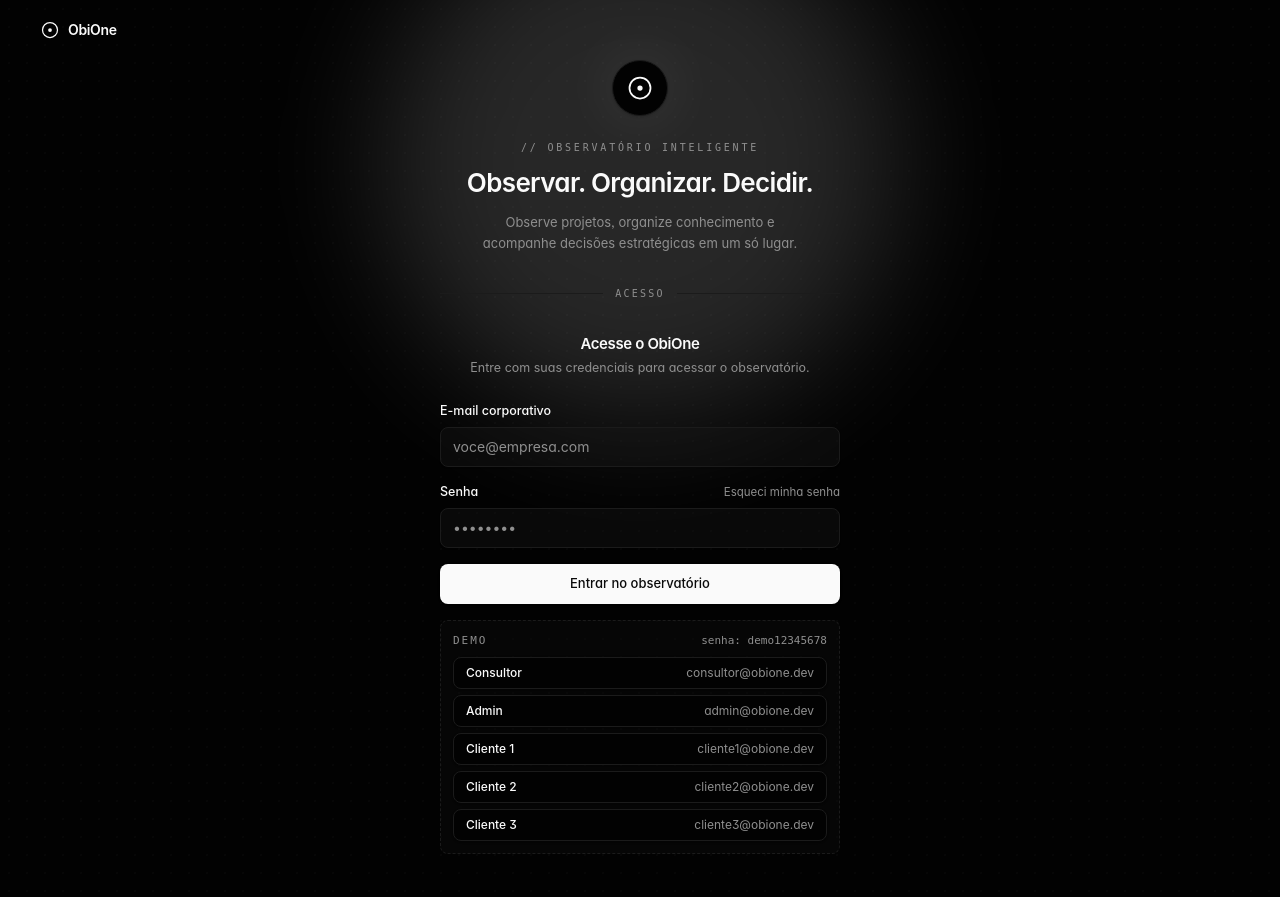
Test: LoginPage › shows an error message when the backend rejects credentials
Step 1. Type "c@x.com" into the field labelled "E-mail corporativo" → [640, 447], box [440,427,840,467]
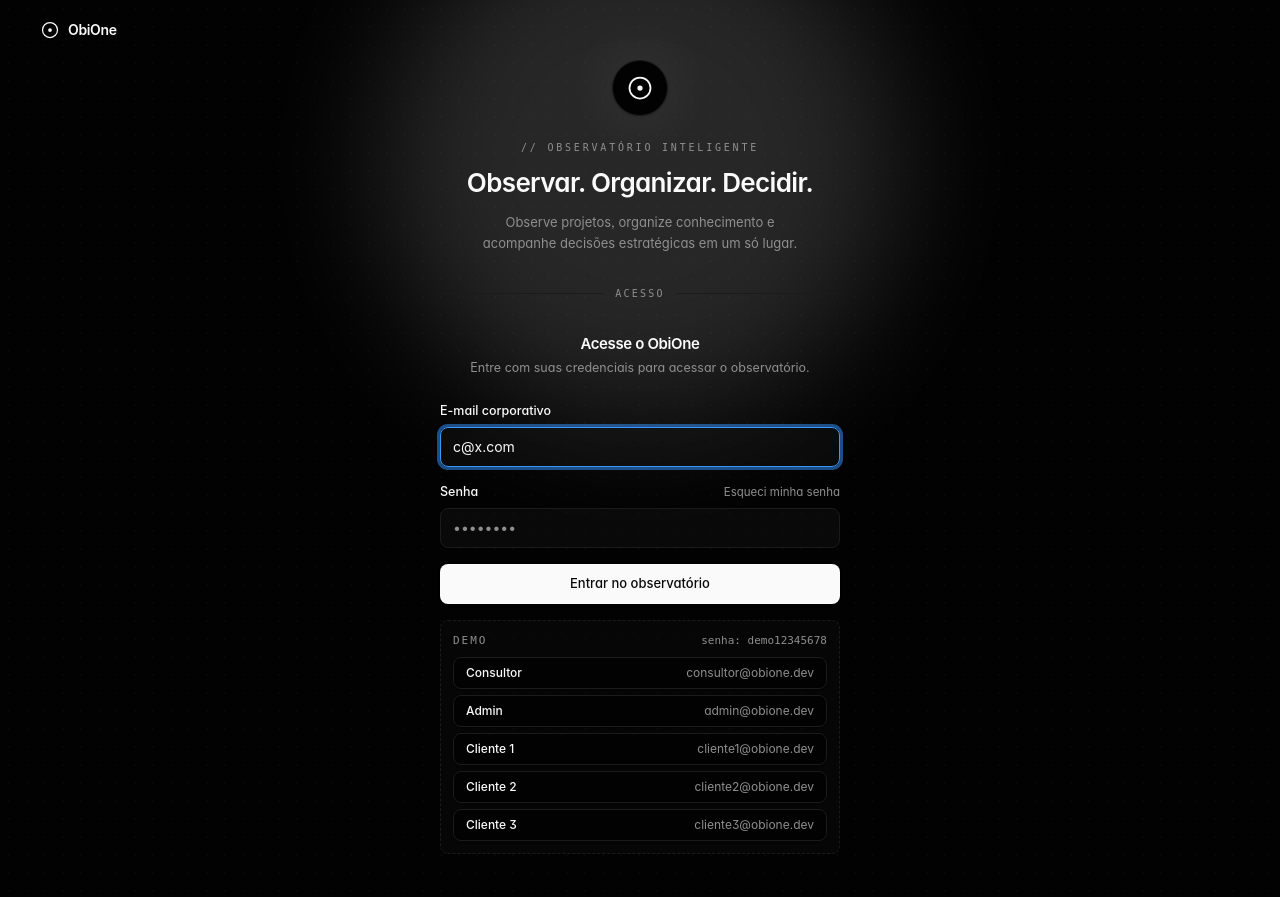
Step 2. Type "pwd12345678" into the password field labelled "Senha" → [640, 528], box [440,508,840,548]
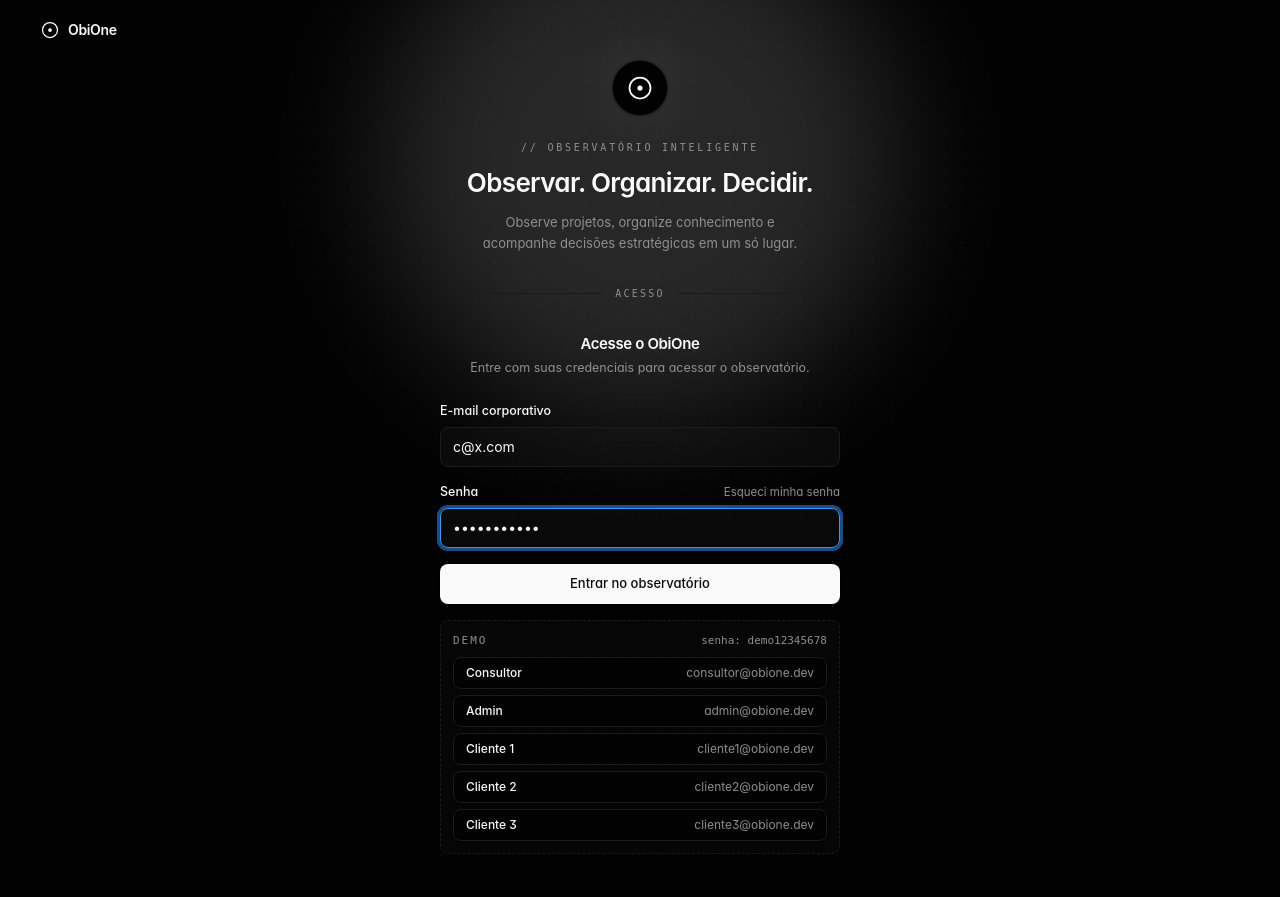
Step 3. Click the button "Entrar no observatório" → [640, 584], box [440,564,840,604]
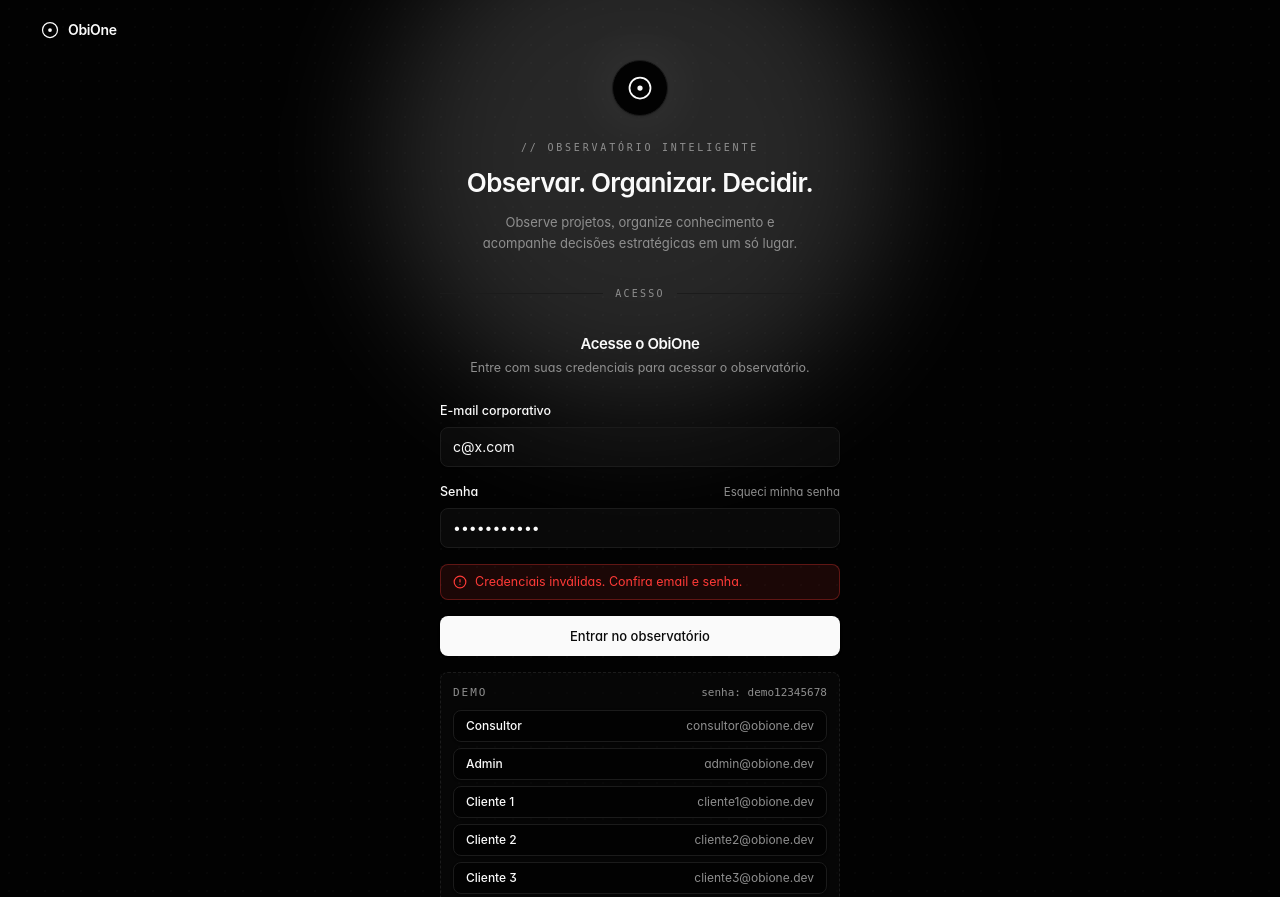
Now the text "Credenciais inválidas. Confira email e senha." is shown, box [475,572,742,591]
